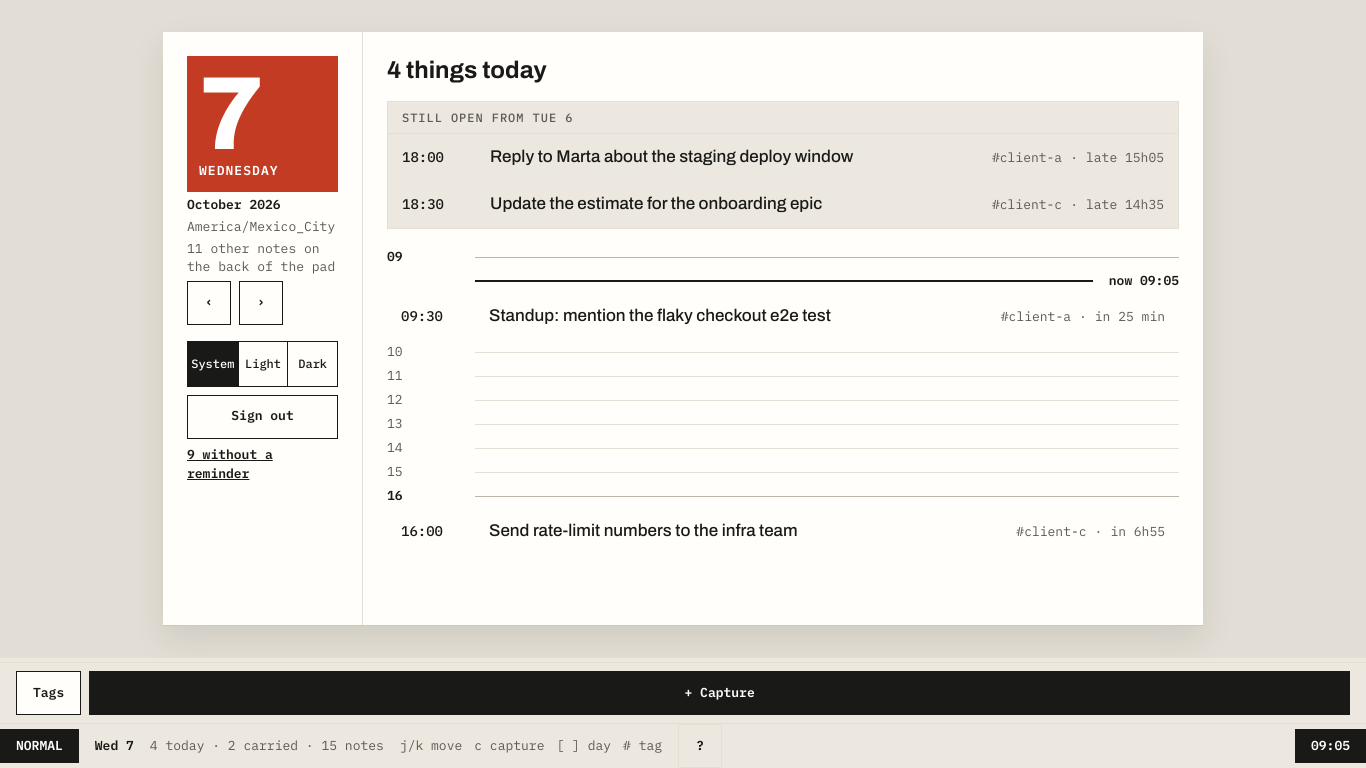
Test: on a narrow screen › the page keys sleep while the sheet is open
Expected: the heading "4 things today" is shown, x1=387 y1=57 x2=547 y2=83
Click the list item with aria-label "Send rate-limit numbers to the infra team, 16:00, open": [783, 531] box x1=401 y1=521 x2=1165 y2=540
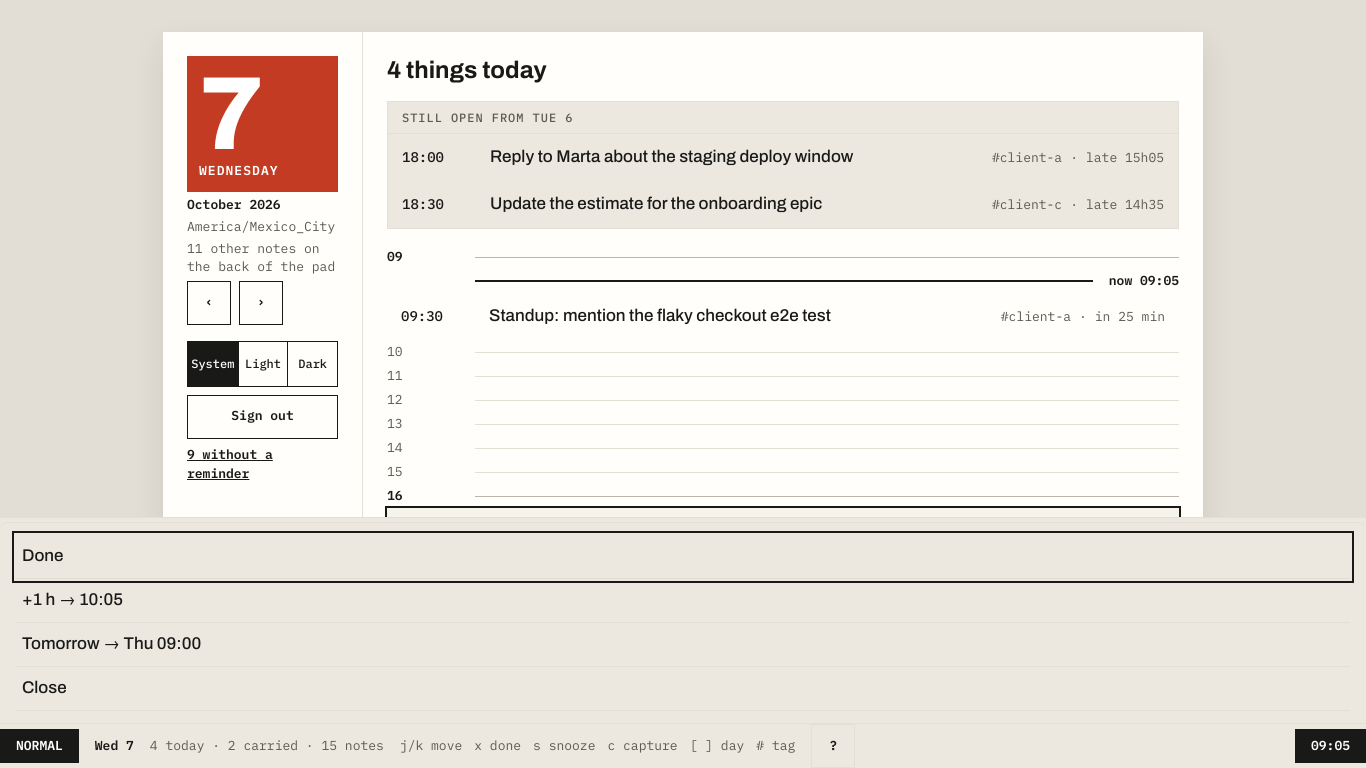
Type keys "x"
Press Escape
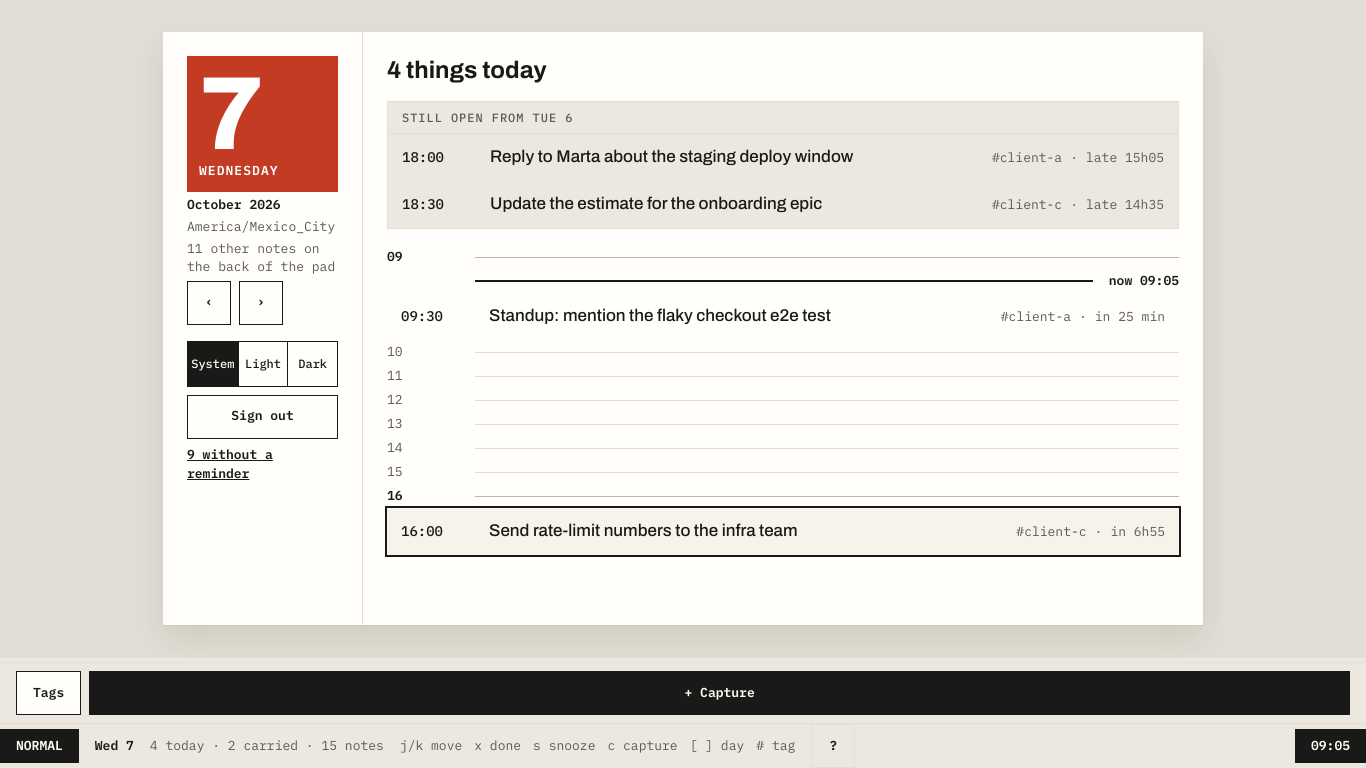
Now the dialog is gone
